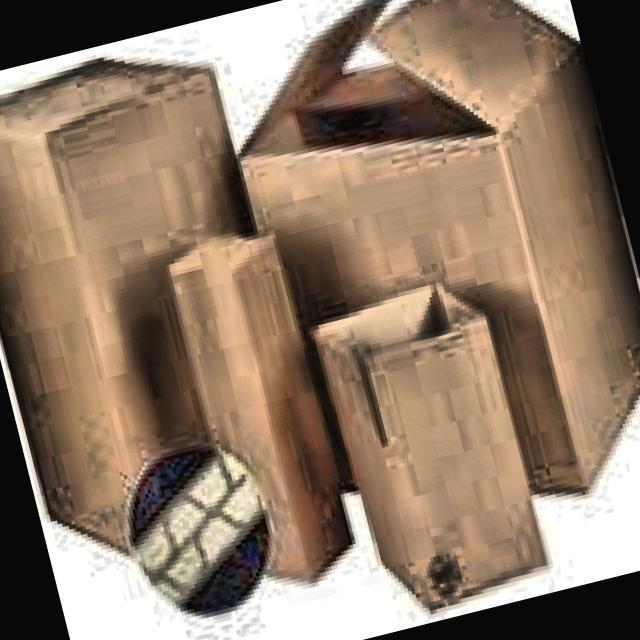cardboard: (201, 0, 640, 553), (0, 23, 324, 577), (301, 269, 553, 623)
